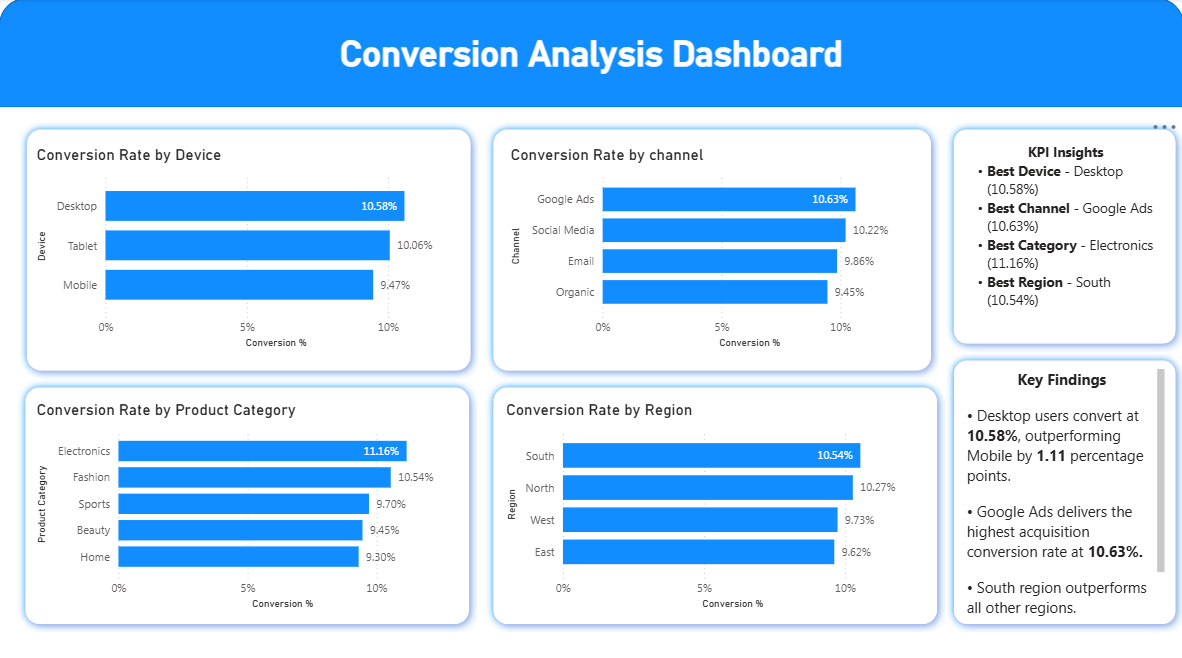

The page's visual inventory and layout, read from the dashboard file:
{"tool":"powerbi","page":{"name":"Conversion Analysis","canvas":[1280,720],"ordinal":1},"visuals":[{"type":"shape","box":[0,0,1279.2,118.2],"z":0},{"type":"textbox","box":[0,32.4,1279.2,74.5],"z":1000},{"type":"shape","box":[21,132.8,497.1,278.5],"z":2000},{"type":"shape","box":[524.6,132.8,490.6,278.5],"z":3000},{"type":"shape","box":[524.6,411.3,497.1,273.6],"z":4000},{"type":"clusteredBarChart","title":"Conversion Rate by Device","fields":{"Category":["public user_funnel.device"],"Y":["public user_funnel.Conversion %"]},"box":[35.6,158.7,464.7,223.5],"z":5000},{"type":"clusteredBarChart","title":"Conversion Rate by Region","fields":{"Category":["public user_funnel.region"],"Y":["public user_funnel.Conversion %"]},"box":[542.4,434,450.1,229.9],"z":6000},{"type":"clusteredBarChart","title":"Conversion Rate by channel","fields":{"Category":["public user_funnel.channel"],"Y":["public user_funnel.Conversion %"]},"box":[547.3,158.7,438.8,223.5],"z":7000},{"type":"shape","box":[19.4,411.3,497.1,273.6],"z":8000},{"type":"clusteredBarChart","title":"Conversion Rate by Product Category","fields":{"Category":["public user_funnel.product_category"],"Y":["public user_funnel.Conversion %"]},"box":[35.6,434,464.7,229.9],"z":9000},{"type":"shape","box":[1021.7,132.8,257.5,249.4],"z":10000},{"type":"textbox","box":[1039.5,150.6,223.5,220.2],"z":11000},{"type":"shape","box":[1021.7,382.1,257.5,302.8],"z":12000},{"type":"textbox","box":[1039.5,395.1,223.5,278.5],"z":13000}]}

Visuals, with their boxes in screenshot pixels (x1, y1, x2, y2), scaled from the page's 1280x720 canvas onto the 1182x658 screenshot:
shape: box(0, 0, 1181, 108)
textbox: box(0, 30, 1181, 98)
shape: box(19, 121, 478, 376)
shape: box(484, 121, 937, 376)
shape: box(484, 376, 943, 626)
"Conversion Rate by Device" clusteredBarChart: box(33, 145, 462, 349)
"Conversion Rate by Region" clusteredBarChart: box(501, 397, 917, 607)
"Conversion Rate by channel" clusteredBarChart: box(505, 145, 911, 349)
shape: box(18, 376, 477, 626)
"Conversion Rate by Product Category" clusteredBarChart: box(33, 397, 462, 607)
shape: box(943, 121, 1181, 349)
textbox: box(960, 138, 1166, 339)
shape: box(943, 349, 1181, 626)
textbox: box(960, 361, 1166, 616)
